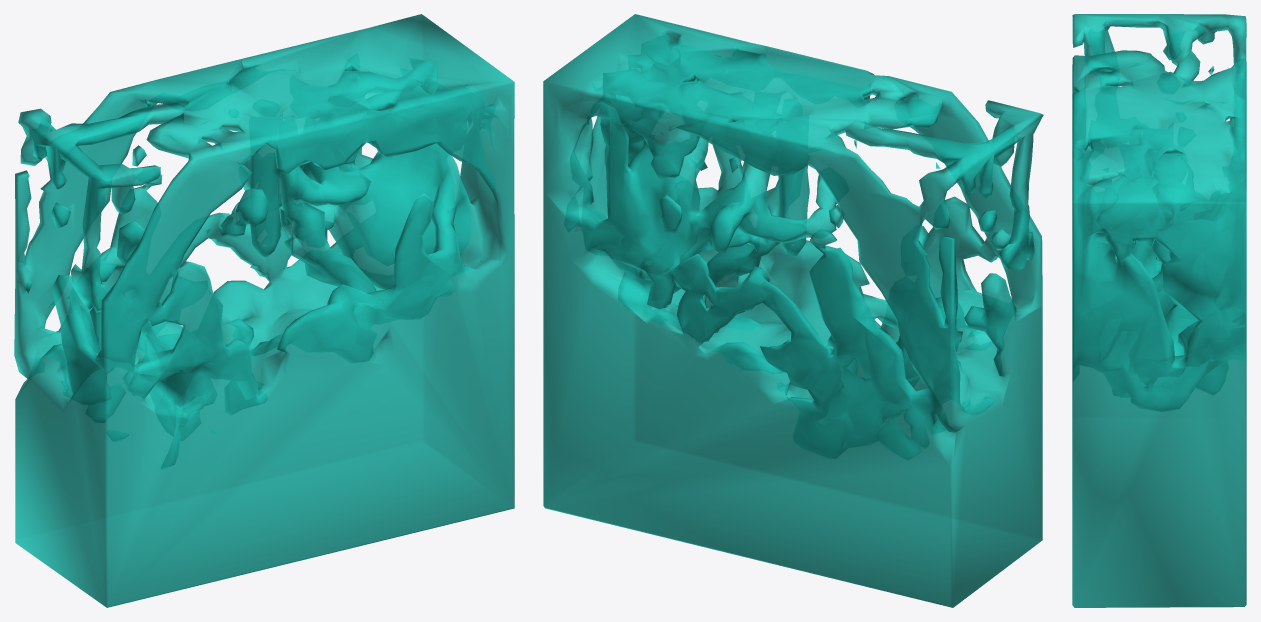
The picture shows the model from 3 angles, left to right: view 1: azimuth 30°, elevation 25°; view 2: azimuth 150°, elevation 25°; view 3: azimuth 270°, elevation 25°; orthographic projection. The views are drawn at different scales.
Parts seen in each view (by area): view 1: Liquid_Domain; view 2: Liquid_Domain; view 3: Liquid_Domain.
Boxes of the visible parts, <box> form: Liquid_Domain: <box>14,14,514,607</box>; Liquid_Domain: <box>543,14,1043,607</box>; Liquid_Domain: <box>1072,14,1246,607</box>.
Bounding box in the file's own units: 885 × 884 × 345.
